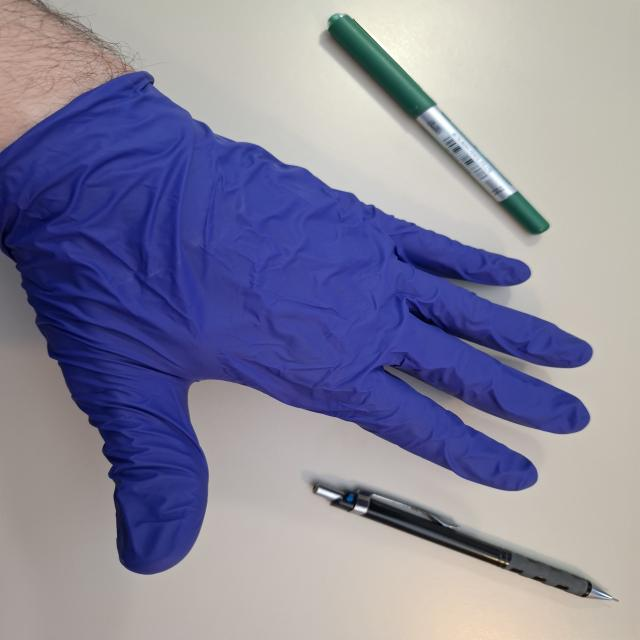glove_on: (1, 65, 594, 568)
